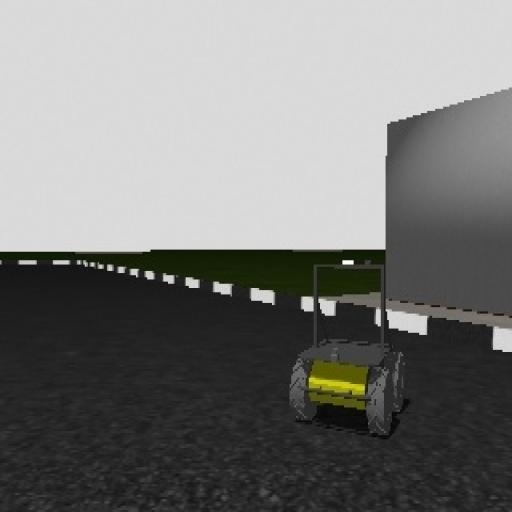huskya200: (284, 249, 422, 468)
